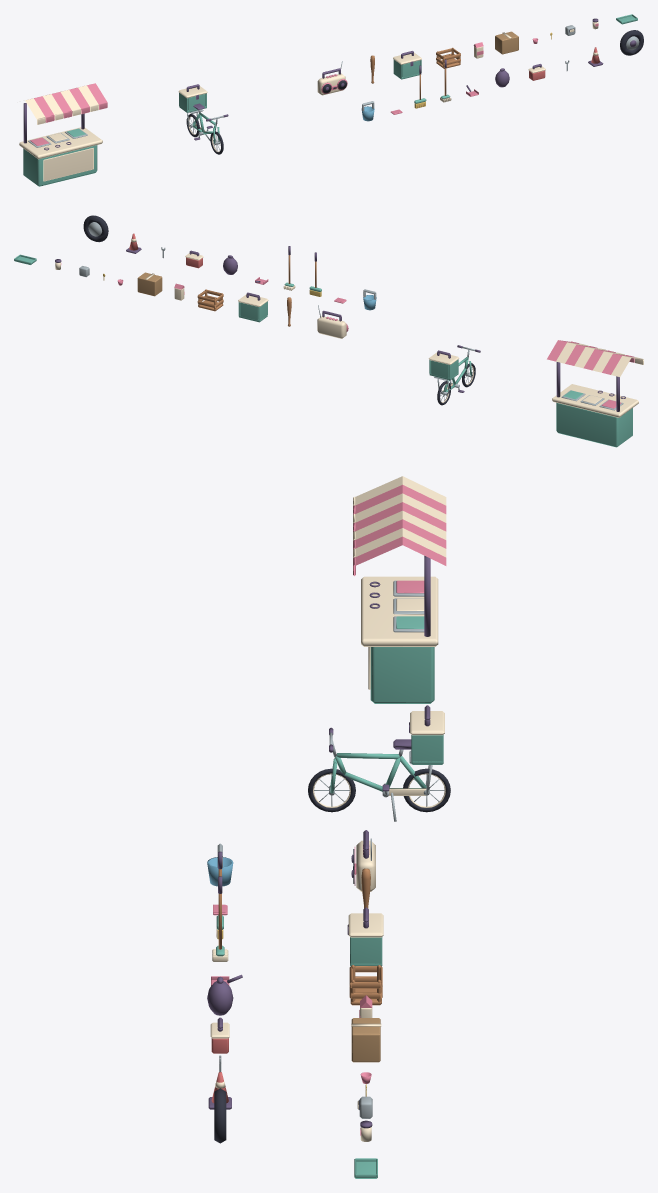
Rendered from RemainingProps.glb.
3 views of the same model, one above another, from view 1: azimuth 30°, elevation 25°; view 2: azimuth 150°, elevation 25°; view 3: azimuth 270°, elevation 25° (orthographic). The views are drawn at different scales.
Visible parts, largest first — view 1: PopUp_Stand_Mesh, Boombox_Mesh, Spare_Tire_Mesh, Restock_Box_Mesh, Delivery_Cooler_Mesh, Supply_Crate_Mesh, BikeCarrier_Delivery_Cooler_Mesh, Delivery_Bicycle_Mesh; view 2: PopUp_Stand_Mesh, Boombox_Mesh, Spare_Tire_Mesh, Restock_Box_Mesh, Delivery_Cooler_Mesh, BikeCarrier_Delivery_Cooler_Mesh, Supply_Crate_Mesh; view 3: PopUp_Stand_Mesh, Delivery_Bicycle_Mesh, Restock_Box_Mesh, Supply_Crate_Mesh, Boombox_Mesh, BikeCarrier_Delivery_Cooler_Mesh, Delivery_Cooler_Mesh.
Boxes of the visible parts, x1,y1,x2,y2 form: PopUp_Stand_Mesh: (19,83,107,186); Boombox_Mesh: (317,61,347,95); Spare_Tire_Mesh: (620,30,643,55); Restock_Box_Mesh: (495,31,518,54); Delivery_Cooler_Mesh: (393,59,421,79); Supply_Crate_Mesh: (436,47,460,68); BikeCarrier_Delivery_Cooler_Mesh: (179,93,206,112); Delivery_Bicycle_Mesh: (187,103,216,140); PopUp_Stand_Mesh: (547,340,643,447); Boombox_Mesh: (317,305,348,338); Spare_Tire_Mesh: (83,215,108,242); Restock_Box_Mesh: (137,272,162,296); Delivery_Cooler_Mesh: (238,301,267,322); BikeCarrier_Delivery_Cooler_Mesh: (429,359,458,380); Supply_Crate_Mesh: (197,289,223,311); PopUp_Stand_Mesh: (353,476,446,703); Delivery_Bicycle_Mesh: (335,739,432,821); Restock_Box_Mesh: (351,1018,381,1062); Supply_Crate_Mesh: (349,965,382,1005); Boombox_Mesh: (351,830,375,891); BikeCarrier_Delivery_Cooler_Mesh: (409,722,443,764); Delivery_Cooler_Mesh: (347,924,382,966).
Bounding box in the file's own units: 19.03 × 2.53 × 3.34.
